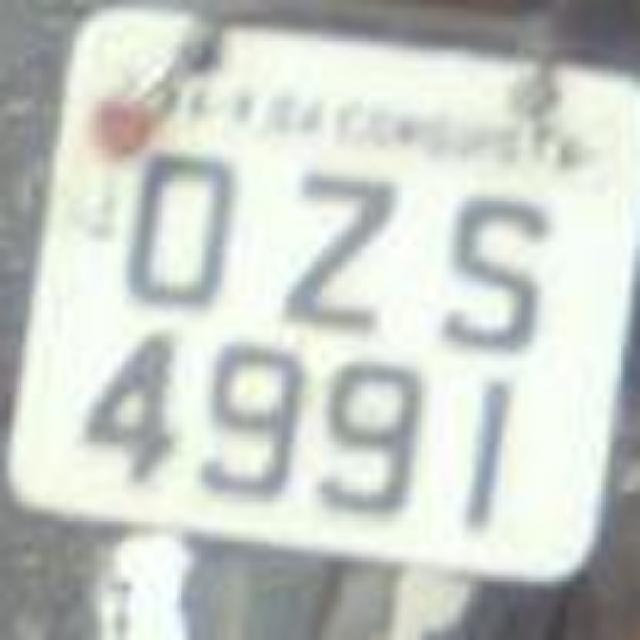1: (436, 332, 544, 552)
4: (44, 304, 216, 508)
9: (160, 315, 335, 520), (292, 332, 452, 532)
O: (108, 135, 248, 320)
S: (408, 176, 568, 352)
Z: (248, 165, 412, 340)
